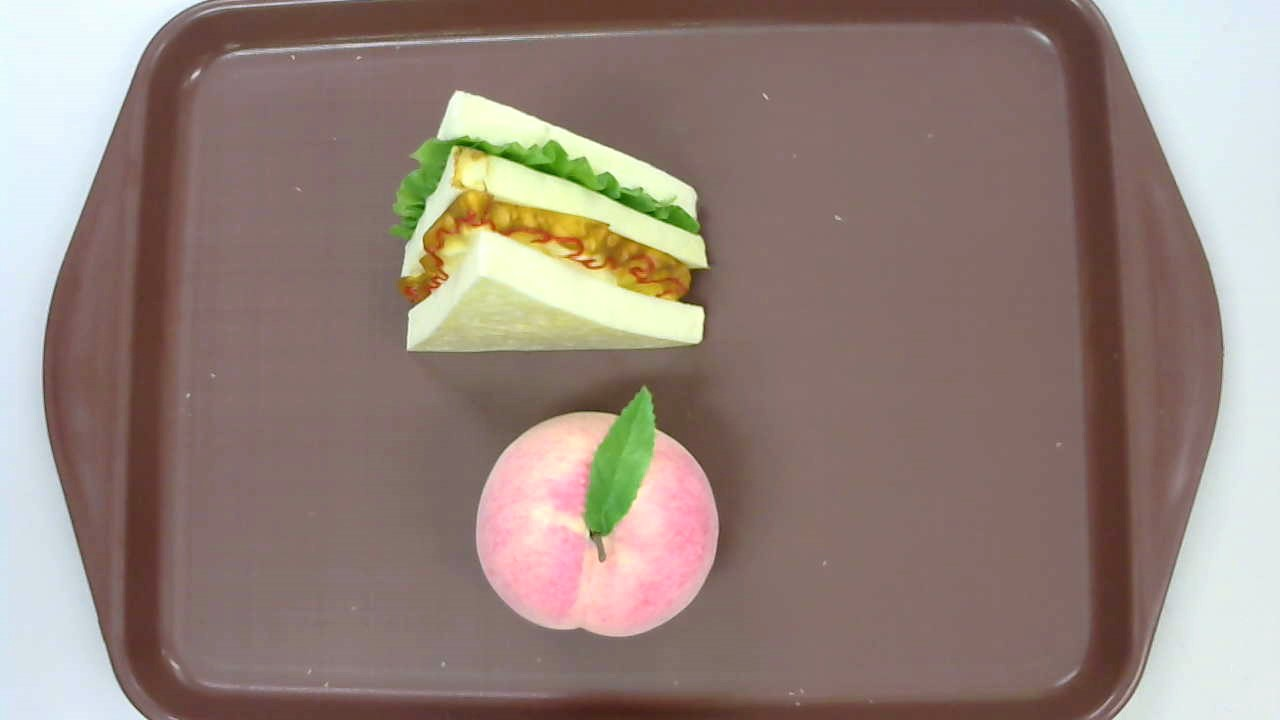peach: (474, 385, 721, 637)
sandwich: (389, 88, 710, 353)
